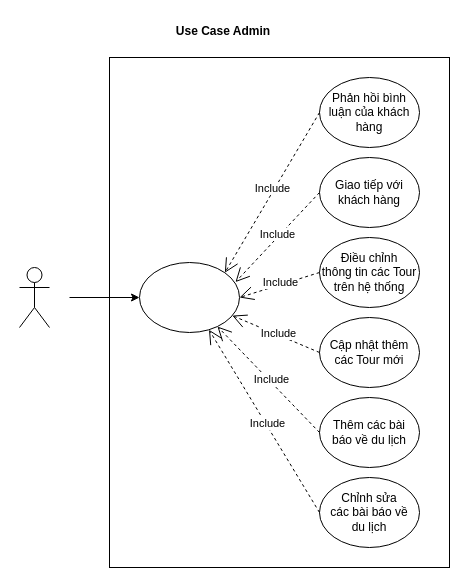
This 467x585 diagram has some shape labels left out. Here are the shapes that lost their labels. From the top down, the centre of each, then its label:
At point (34, 297): "Admin".
At point (189, 297): "Đăng nhập".
